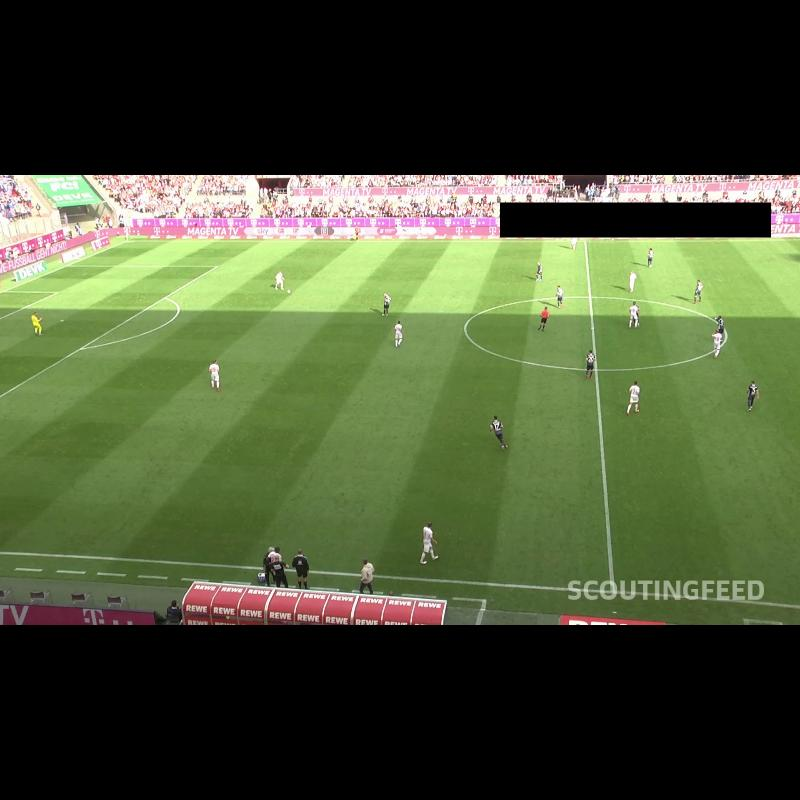cross_recipient_zone: (0, 265, 217, 396)
crossing_player_zone: (0, 418, 142, 548), (68, 241, 354, 266)
pitch: (0, 239, 800, 608)
